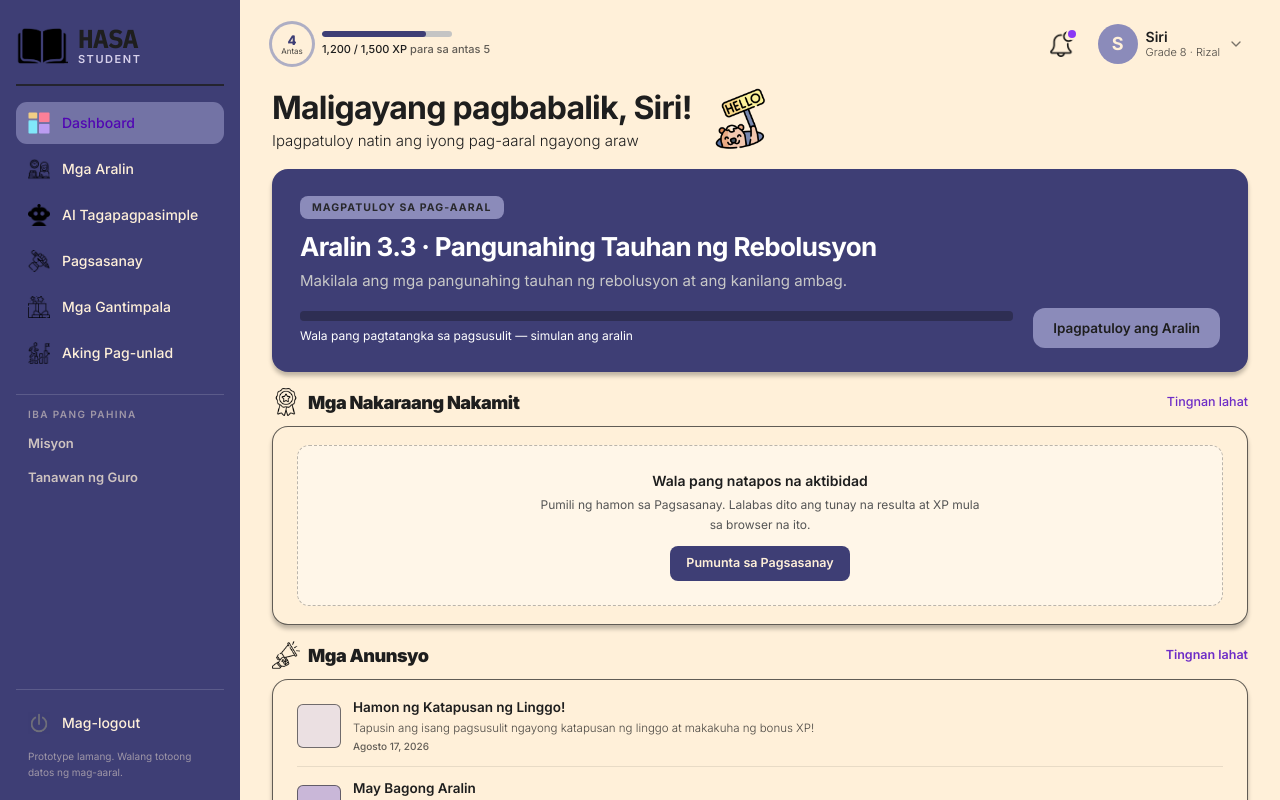
Test: dashboard › nagbubukas ng panel ng mga abiso
Click the button named "Mga Abiso" at [1062, 44], box [1042,24,1082,64]
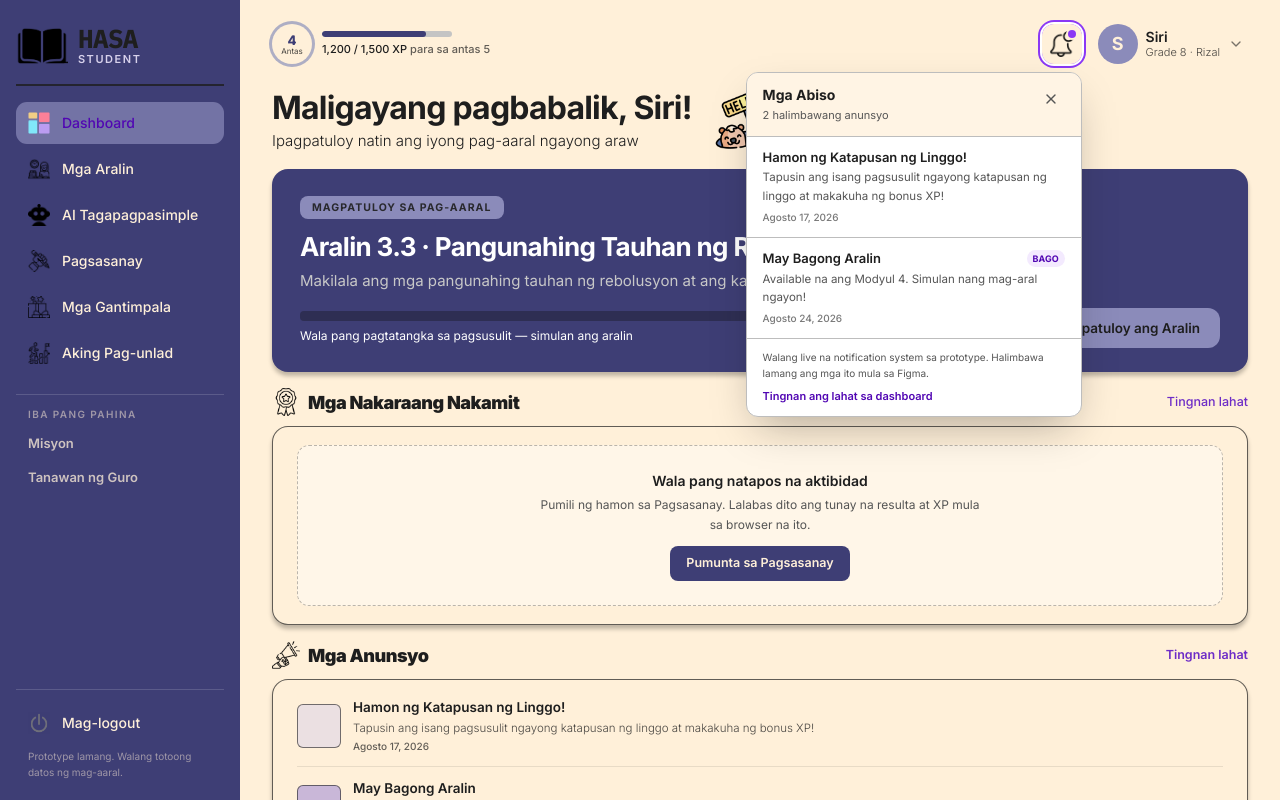
expect the text "2 halimbawang anunsyo" is shown: met, box [763,107,889,124]
expect the text "Hamon ng Katapusan ng Linggo!" below "halimbawang anunsyo" is shown: met, box [763,148,967,164]
expect the text "Walang live na notification system" is shown: met, box [763,351,1044,379]
